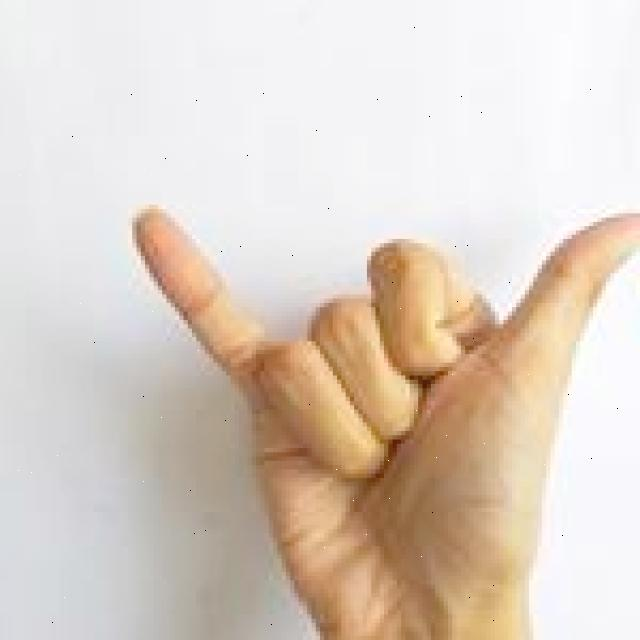Y: (123, 182, 640, 640)
